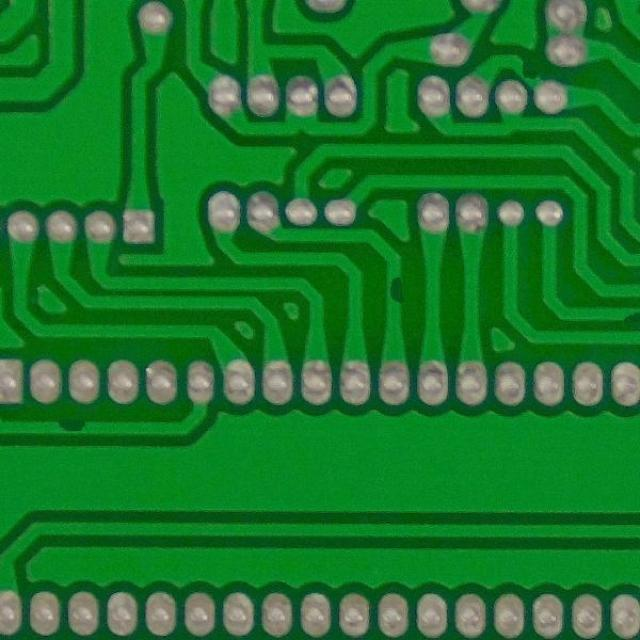MouseBite: (506, 50, 548, 89), (44, 417, 102, 440), (381, 270, 408, 312), (615, 304, 640, 326)
